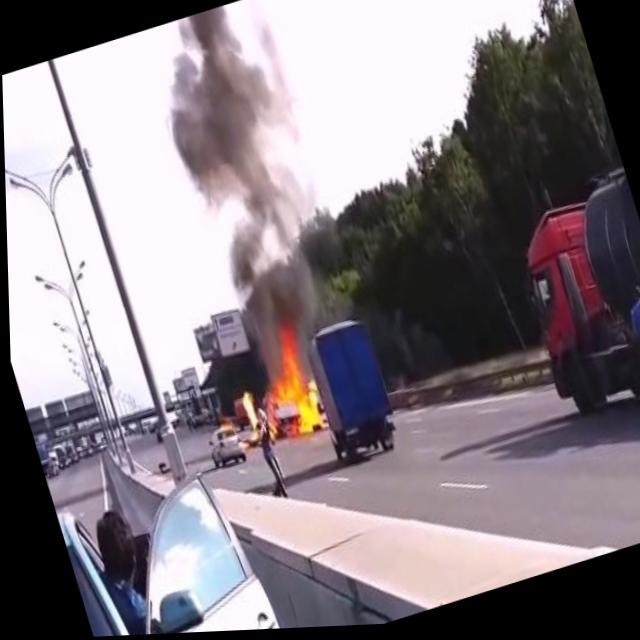fire: (237, 313, 330, 446), (233, 386, 261, 437)
